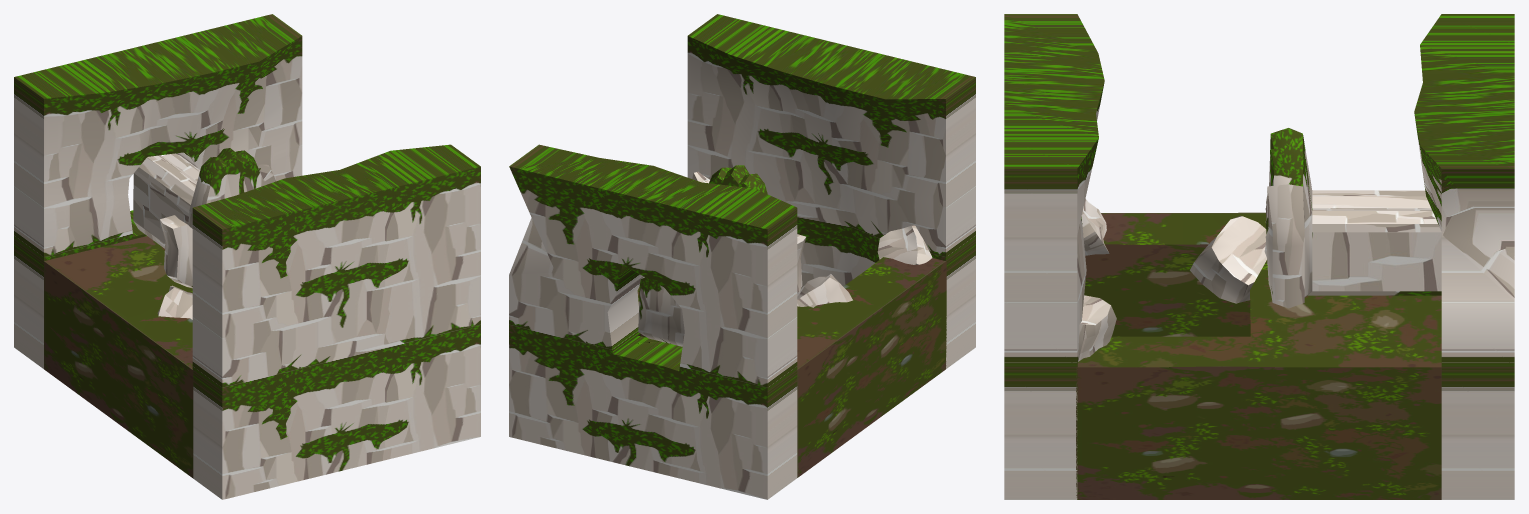
The model's file is Handy.fbx.
The picture shows the model from 3 angles, left to right: view 1: azimuth 30°, elevation 25°; view 2: azimuth 150°, elevation 25°; view 3: azimuth 270°, elevation 25°; orthographic projection. The views are drawn at different scales.
Visible parts, largest first — view 1: Box037, Box036, Box035, Box047, Box046; view 2: Box036, Box037, Box035, Box047, Box044, Box046; view 3: Box035, Box037, Box036, Box047, Box046, Box045, Box044.
Part boxes in pixels (<box>): Box037: <box>192,144,480,499</box>; Box036: <box>14,14,302,368</box>; Box035: <box>44,236,193,478</box>; Box047: <box>133,148,275,288</box>; Box046: <box>157,285,192,319</box>; Box036: <box>509,144,797,499</box>; Box037: <box>687,14,975,368</box>; Box035: <box>637,257,946,477</box>; Box047: <box>638,165,806,346</box>; Box044: <box>877,225,932,264</box>; Box046: <box>797,274,852,307</box>; Box035: <box>1076,212,1441,499</box>; Box037: <box>1004,14,1104,499</box>; Box036: <box>1414,14,1514,499</box>; Box047: <box>1264,128,1441,308</box>; Box046: <box>1190,215,1266,303</box>; Box045: <box>1078,295,1116,361</box>; Box044: <box>1081,199,1109,255</box>.
Bounding box in the file's own units: 197 × 197 × 275.
